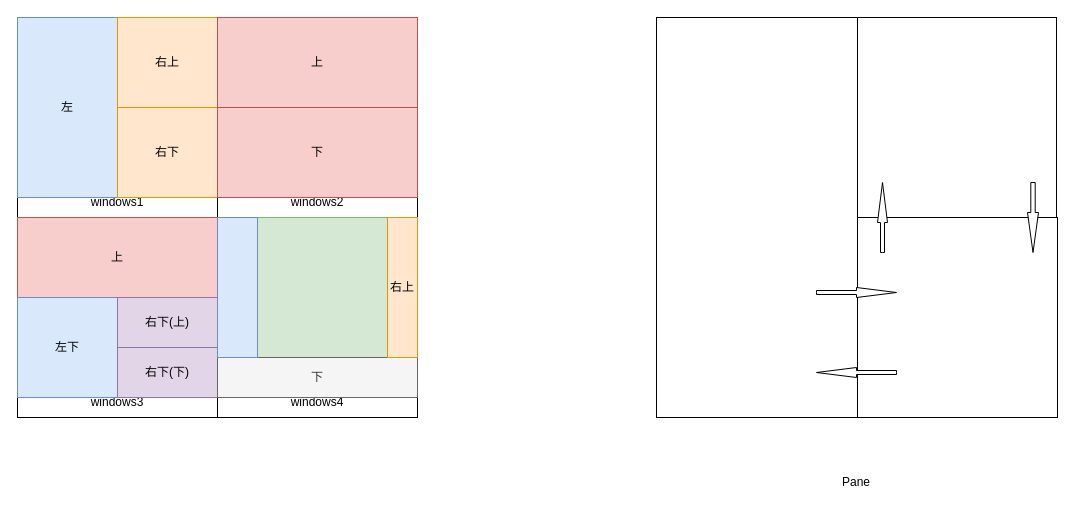
Some shapes in this 1075 by 515 pixel diagram are drawn without their labels. The shapes that lost their labels are listed below. From the top down, each one's box as (x1, y1, x2, y2) in pixels, then its label:
(216, 216, 258, 358): 左上
(256, 216, 388, 358): 中上
